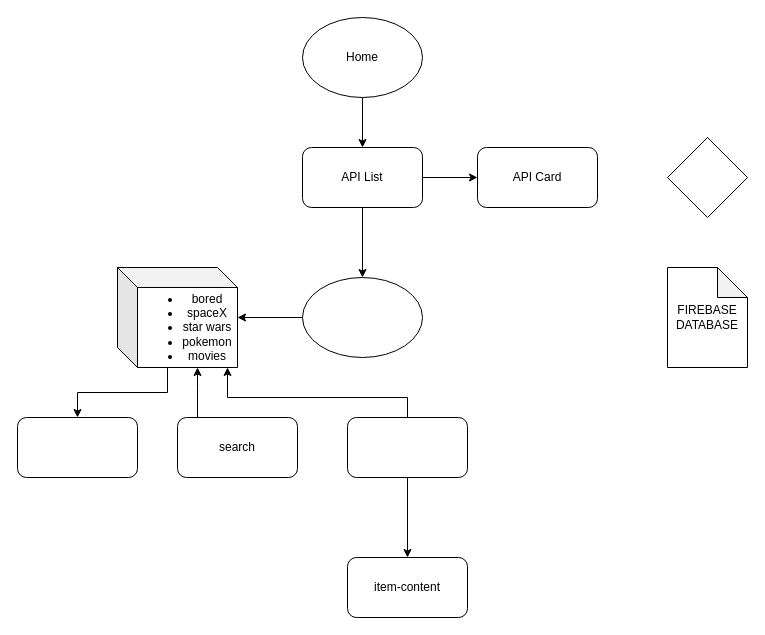
The diagram is 765 pixels wide and 635 high, and some of its shapes have lost their labels. The box of each missing label's shape, as (x1, y1, x2, y2) in pixels:
API Home: (302, 276, 422, 358)
API Select Control: (666, 136, 748, 218)
card-items: (346, 416, 468, 478)
featured: (16, 416, 138, 478)
